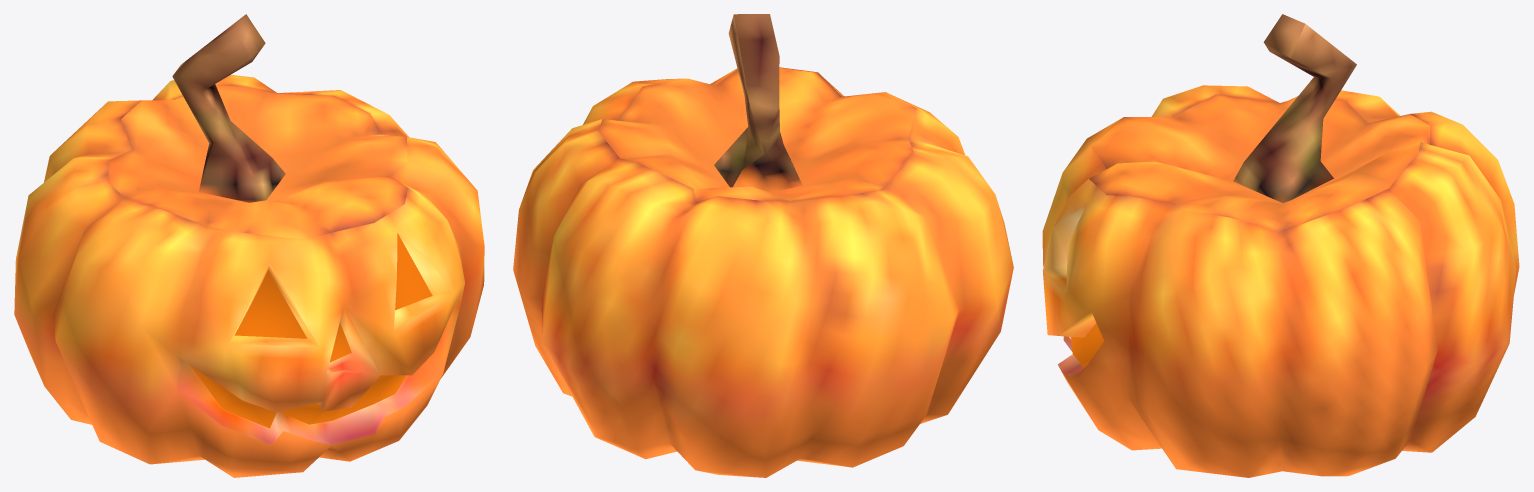
Rendered from 8e18b7ab-5edc-4c96-9bcb-d826b0de53fd.glb.
3 views of the same model, side by side, from view 1: azimuth 30°, elevation 25°; view 2: azimuth 150°, elevation 25°; view 3: azimuth 270°, elevation 25° (orthographic). The views are drawn at different scales.
Visible parts, largest first — view 1: CarvedPumpkin02; view 2: CarvedPumpkin02; view 3: CarvedPumpkin02.
Part boxes in pixels (<box>): CarvedPumpkin02: <box>14,14,484,477</box>; CarvedPumpkin02: <box>513,14,1013,477</box>; CarvedPumpkin02: <box>1042,14,1519,477</box>.
Size of what is drawn, in the model's own units: 0.581 by 0.5257 by 0.5602.
2 materials, 2 textured.
